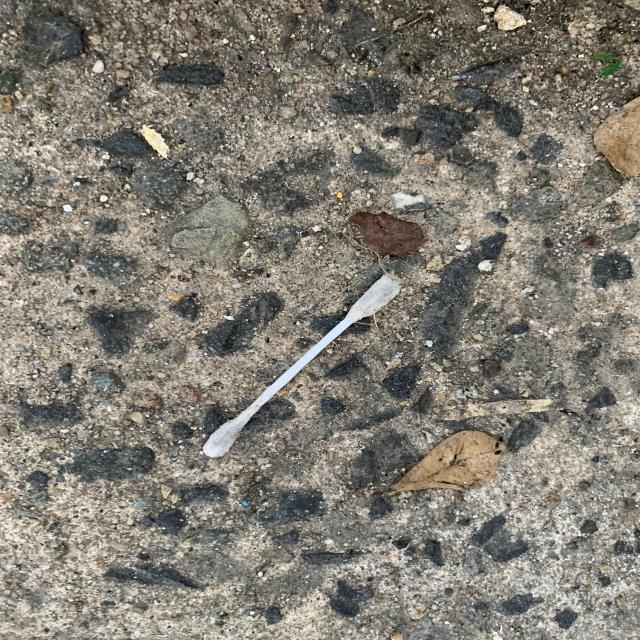litter: (189, 268, 413, 461)
